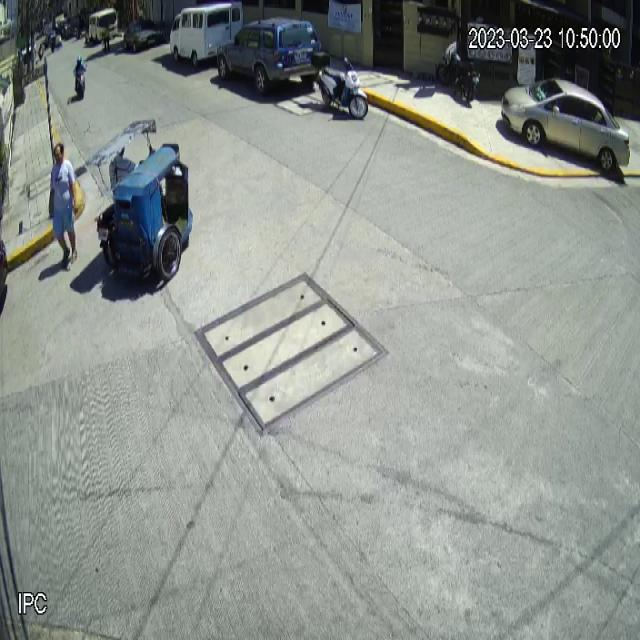Car: (501, 76, 631, 171), (219, 15, 325, 94)
Motorcycle: (312, 48, 369, 120)
Tricycle: (87, 118, 193, 291)
Van: (170, 1, 245, 67)
